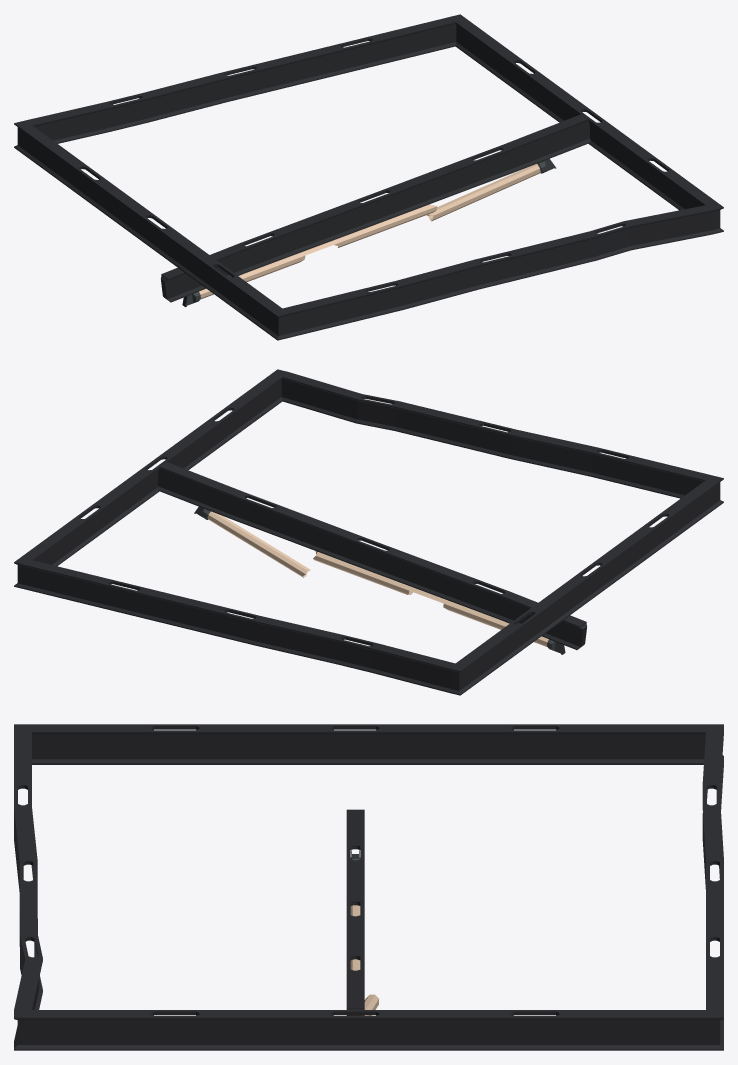
Rendered from SM_Roof_Broken_02.gltf.
3 views of the same model, one above another, from view 1: azimuth 30°, elevation 25°; view 2: azimuth 150°, elevation 25°; view 3: azimuth 270°, elevation 25° (orthographic). The views are drawn at different scales.
Parts seen in each view (by area): view 1: SM_Roof_Broken_02; view 2: SM_Roof_Broken_02; view 3: SM_Roof_Broken_02.
Boxes of the visible parts, x1=… form: SM_Roof_Broken_02: x1=14, y1=14, x2=723, y2=340; SM_Roof_Broken_02: x1=14, y1=369, x2=723, y2=695; SM_Roof_Broken_02: x1=14, y1=724, x2=723, y2=1050.
Bounding box in the file's own units: 1.91 × 0.3753 × 1.95.
